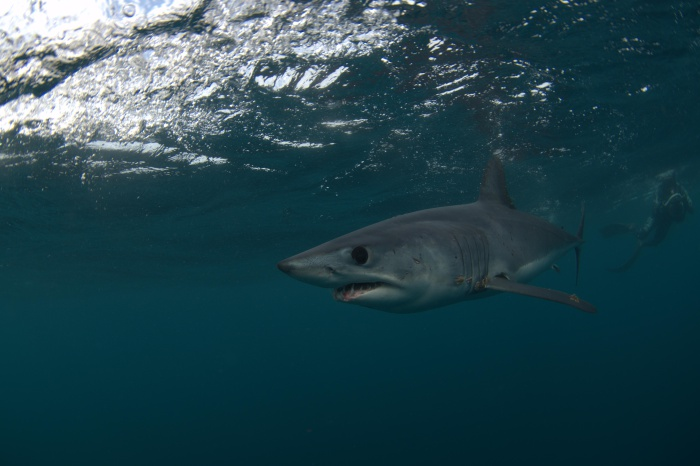Mako: (270, 137, 608, 349)
